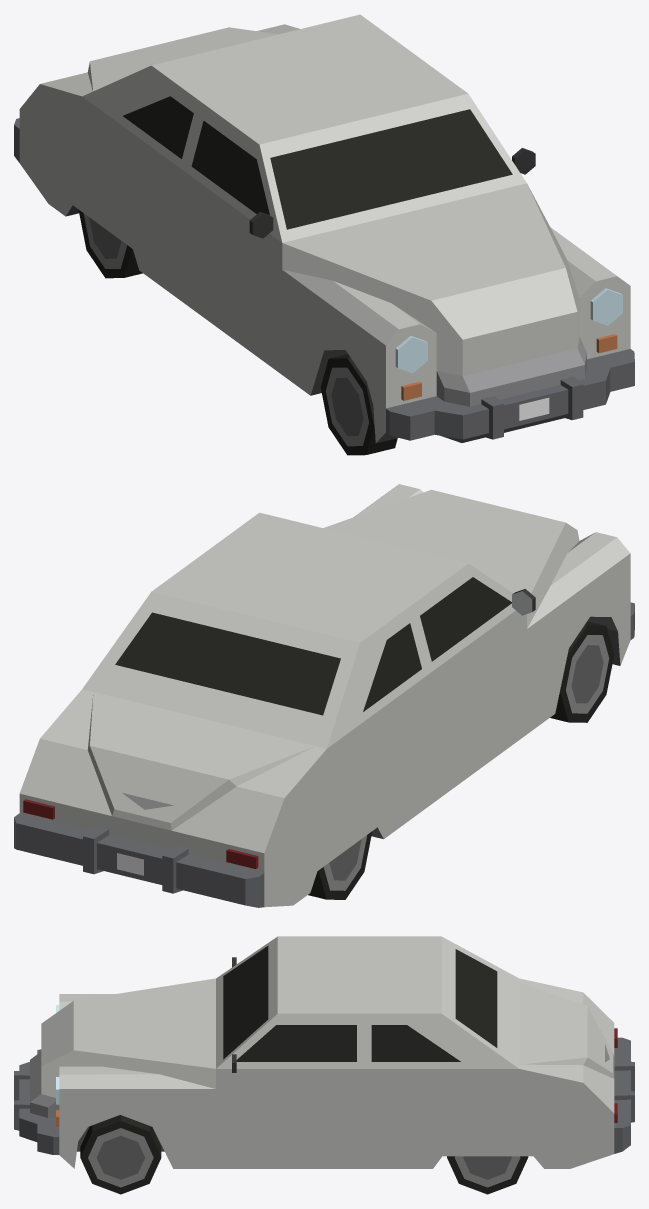
Rendered from Veh_Retro_Car_01_White.glb.
3 renders of one model, top to bottom at view 1: azimuth 30°, elevation 25°; view 2: azimuth 150°, elevation 25°; view 3: azimuth 270°, elevation 25°, orthographic. The views are drawn at different scales.
Parts seen in each view (by area): view 1: Retro_Car_01_White, Wheel_FR, Wheel_RR; view 2: Retro_Car_01_White, Wheel_FR, Wheel_RR; view 3: Retro_Car_01_White, Wheel_FL, Wheel_RL.
Boxes of the visible parts, left/top/right/bottom form: Retro_Car_01_White: left=14, top=14, right=634, bottom=443; Wheel_FR: left=320, top=354, right=397, bottom=455; Wheel_RR: left=78, top=210, right=142, bottom=278; Retro_Car_01_White: left=14, top=484, right=634, bottom=907; Wheel_FR: left=550, top=621, right=614, bottom=722; Wheel_RR: left=308, top=831, right=372, bottom=899; Retro_Car_01_White: left=14, top=936, right=634, bottom=1168; Wheel_FL: left=80, top=1115, right=161, bottom=1194; Wheel_RL: left=447, top=1156, right=528, bottom=1194.
Size of the model in its own units: 1.1 by 0.863 by 2.77.
1 material, 1 textured.
